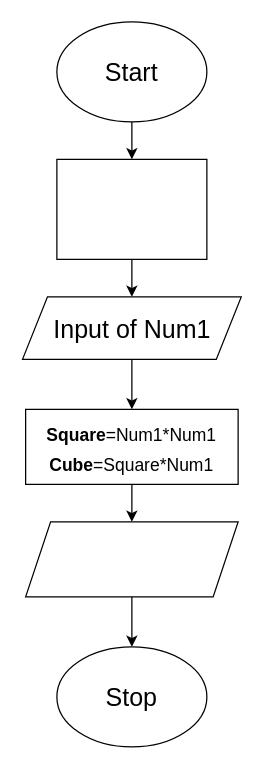
Some shapes in this 263 by 769 pixel diagram are drawn without their labels. Each missing label, with the centre of its shape:
"Num Num1 Num Square Num Cube" goes at point (131, 208).
"Output Square Output Cube" goes at point (131, 559).
